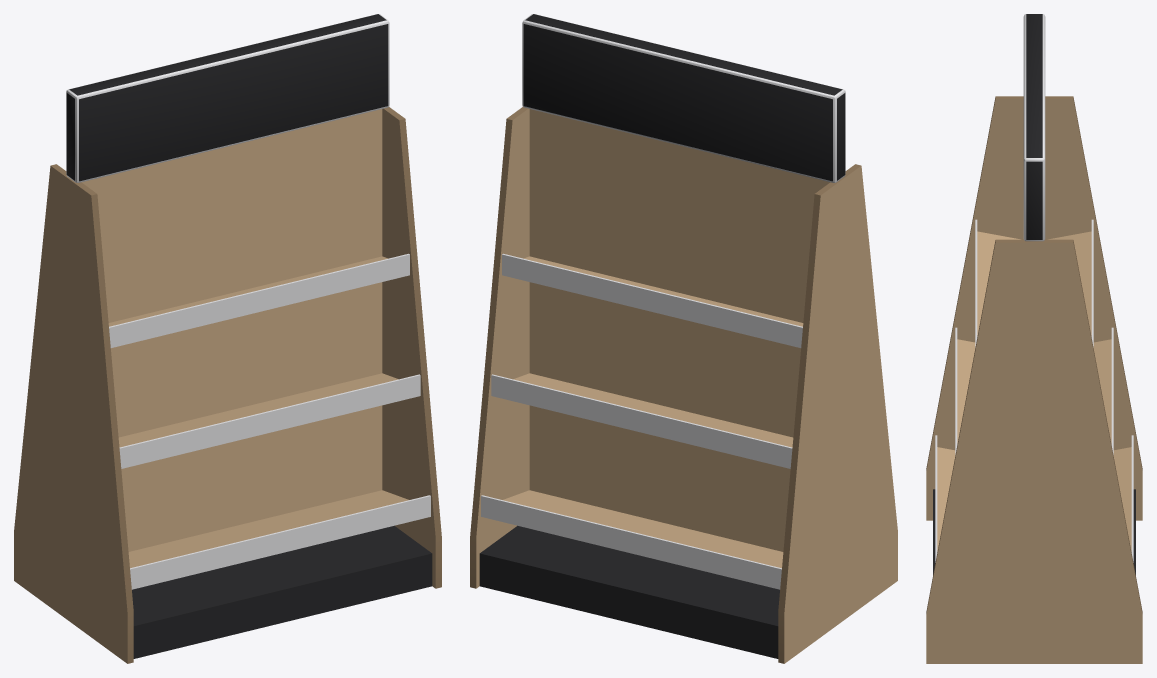
Rendered from studio-island.glb.
The picture shows the model from 3 angles, left to right: view 1: azimuth 30°, elevation 25°; view 2: azimuth 150°, elevation 25°; view 3: azimuth 270°, elevation 25°; orthographic projection. The views are drawn at different scales.
Visible parts, largest first — view 1: Spine, Gable_left, Header_bar, Plinth, Gable_right, Shelf_front_1_rail, Shelf_front_2_rail, Shelf_front_0_rail, Shelf_front_0_deck, Shelf_front_1_deck, Shelf_front_2_deck; view 2: Spine, Gable_left, Header_bar, Plinth, Gable_right, Shelf_back_1_rail, Shelf_back_2_rail, Shelf_back_0_rail, Shelf_back_0_deck, Shelf_back_1_deck, Shelf_back_2_deck; view 3: Gable_right, Gable_left, Header_bar, Shelf_front_2_deck, Shelf_back_2_deck, Shelf_front_1_deck, Shelf_back_1_deck, Shelf_front_0_deck, Shelf_back_0_deck, Plinth, Shelf_front_2_rail, Shelf_back_2_rail (+4 smaller).
Part boxes in pixels (left/top/right/bottom): Spine: left=82, top=109, right=382, bottom=551; Gable_left: left=14, top=164, right=133, bottom=663; Header_bar: left=66, top=14, right=389, bottom=182; Plinth: left=132, top=525, right=432, bottom=658; Gable_right: left=382, top=107, right=441, bottom=588; Shelf_front_1_rail: left=119, top=374, right=420, bottom=468; Shelf_front_2_rail: left=109, top=253, right=409, bottom=347; Shelf_front_0_rail: left=130, top=495, right=430, bottom=589; Shelf_front_0_deck: left=128, top=490, right=408, bottom=568; Shelf_front_1_deck: left=118, top=373, right=398, bottom=447; Shelf_front_2_deck: left=108, top=256, right=387, bottom=326; Spine: left=529, top=109, right=829, bottom=551; Gable_left: left=778, top=164, right=897, bottom=663; Header_bar: left=522, top=14, right=845, bottom=182; Plinth: left=479, top=525, right=779, bottom=658; Gable_right: left=470, top=107, right=529, bottom=588; Shelf_back_1_rail: left=491, top=374, right=792, bottom=468; Shelf_back_2_rail: left=502, top=253, right=802, bottom=347; Shelf_back_0_rail: left=481, top=495, right=781, bottom=589; Shelf_back_0_deck: left=503, top=490, right=783, bottom=568; Shelf_back_1_deck: left=513, top=373, right=793, bottom=447; Shelf_back_2_deck: left=524, top=256, right=803, bottom=326; Gable_right: left=926, top=239, right=1142, bottom=663; Gable_left: left=926, top=96, right=1142, bottom=520; Header_bar: left=1023, top=14, right=1045, bottom=241; Shelf_front_2_deck: left=977, top=231, right=1020, bottom=336; Shelf_back_2_deck: left=1048, top=231, right=1091, bottom=336; Shelf_front_1_deck: left=957, top=339, right=975, bottom=444; Shelf_back_1_deck: left=1093, top=339, right=1111, bottom=444; Shelf_front_0_deck: left=937, top=447, right=955, bottom=551; Shelf_back_0_deck: left=1113, top=447, right=1131, bottom=551; Plinth: left=933, top=489, right=1135, bottom=574; Shelf_front_2_rail: left=975, top=219, right=977, bottom=347; Shelf_back_2_rail: left=1091, top=219, right=1093, bottom=347.
Size of the model in its own units: 3.2 by 5.15 by 2.
